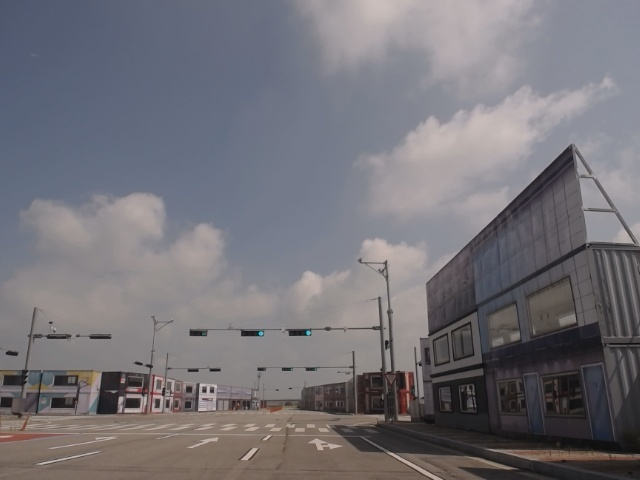straight_green_4: (287, 327, 312, 336), (241, 330, 266, 337)
